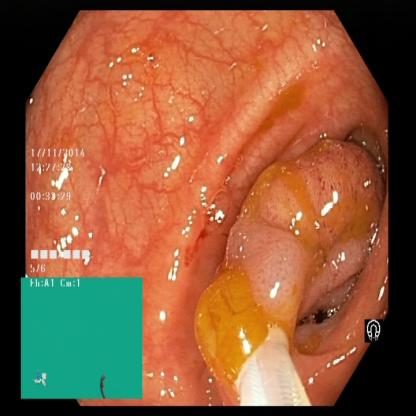Labels: (23, 275, 142, 400), (23, 135, 91, 277), (362, 309, 386, 349)
Polyps: (297, 156, 382, 281), (225, 205, 309, 320)
